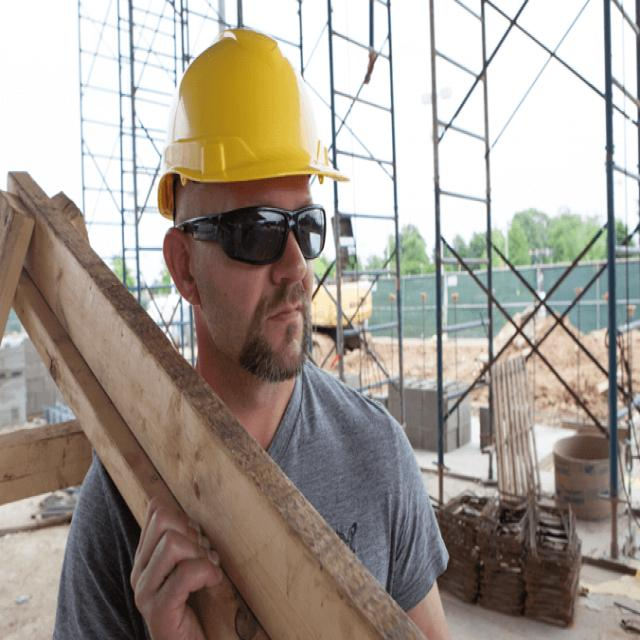Helmet: (157, 18, 350, 217)
Protective Glasses: (153, 198, 344, 272)
